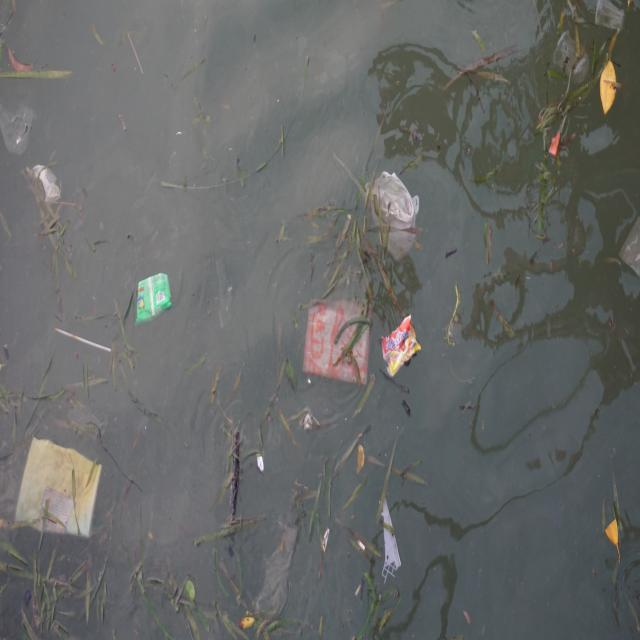Bungkus Makanan: (16, 437, 104, 550), (377, 310, 421, 382), (136, 273, 175, 327)
Kantong Plastik: (303, 292, 373, 389), (368, 164, 423, 272), (1, 103, 39, 160)
